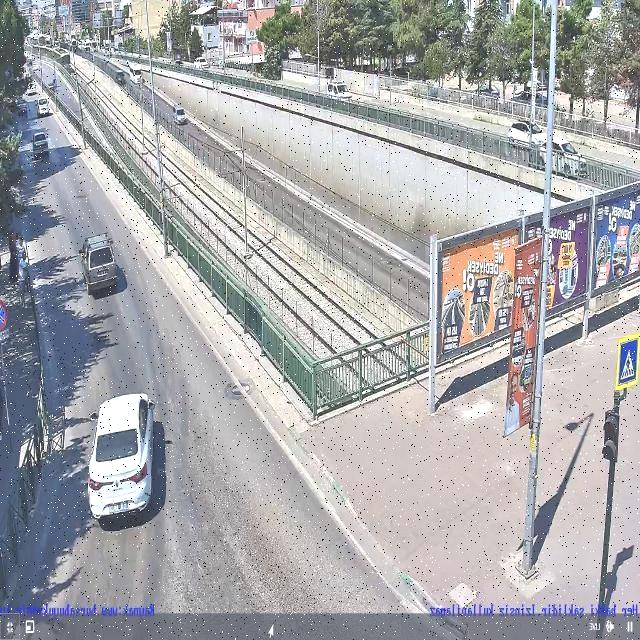Car: (85, 379, 162, 547), (64, 231, 134, 299), (533, 141, 590, 178), (503, 116, 552, 146), (320, 76, 354, 103), (168, 99, 195, 131), (30, 130, 50, 163), (6, 97, 28, 121)
Van: (33, 96, 53, 120)
